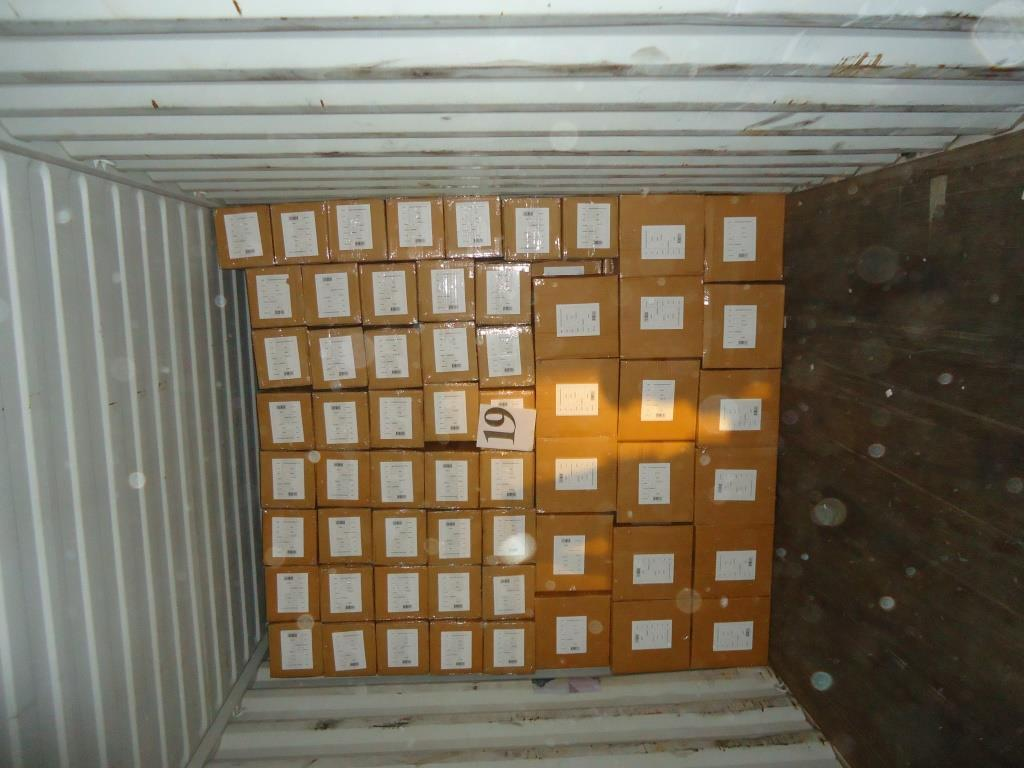carton: (702, 192, 784, 281), (618, 194, 704, 276), (702, 283, 784, 368), (619, 276, 704, 358), (533, 276, 618, 358), (535, 357, 619, 438), (617, 359, 700, 440), (616, 441, 694, 524), (694, 446, 776, 524), (697, 369, 780, 446), (536, 436, 618, 513), (535, 513, 613, 592), (612, 524, 693, 600), (609, 598, 691, 672), (534, 594, 611, 669), (694, 525, 774, 597), (691, 597, 770, 668), (326, 196, 387, 262), (214, 204, 275, 267), (384, 196, 444, 260), (250, 327, 311, 389), (244, 265, 304, 328), (308, 327, 368, 390), (443, 194, 502, 258), (358, 261, 417, 325), (302, 262, 361, 326), (502, 197, 561, 260), (416, 259, 475, 322), (475, 324, 534, 387), (419, 320, 478, 382), (364, 325, 422, 388), (271, 202, 329, 264), (423, 381, 480, 444), (562, 194, 618, 258), (475, 261, 531, 324), (312, 390, 370, 450), (479, 388, 535, 449), (257, 392, 315, 450), (312, 450, 370, 507), (369, 388, 424, 448), (259, 451, 316, 508), (264, 565, 320, 622), (319, 564, 374, 622), (369, 450, 424, 508), (479, 450, 534, 508), (427, 508, 482, 565), (372, 508, 427, 565), (482, 508, 537, 565), (425, 450, 479, 508), (317, 508, 372, 564), (262, 508, 316, 565), (374, 565, 428, 621), (268, 621, 324, 675), (428, 564, 482, 619), (375, 620, 429, 674), (481, 564, 534, 619), (322, 621, 377, 674), (430, 620, 483, 674), (483, 620, 534, 674)
